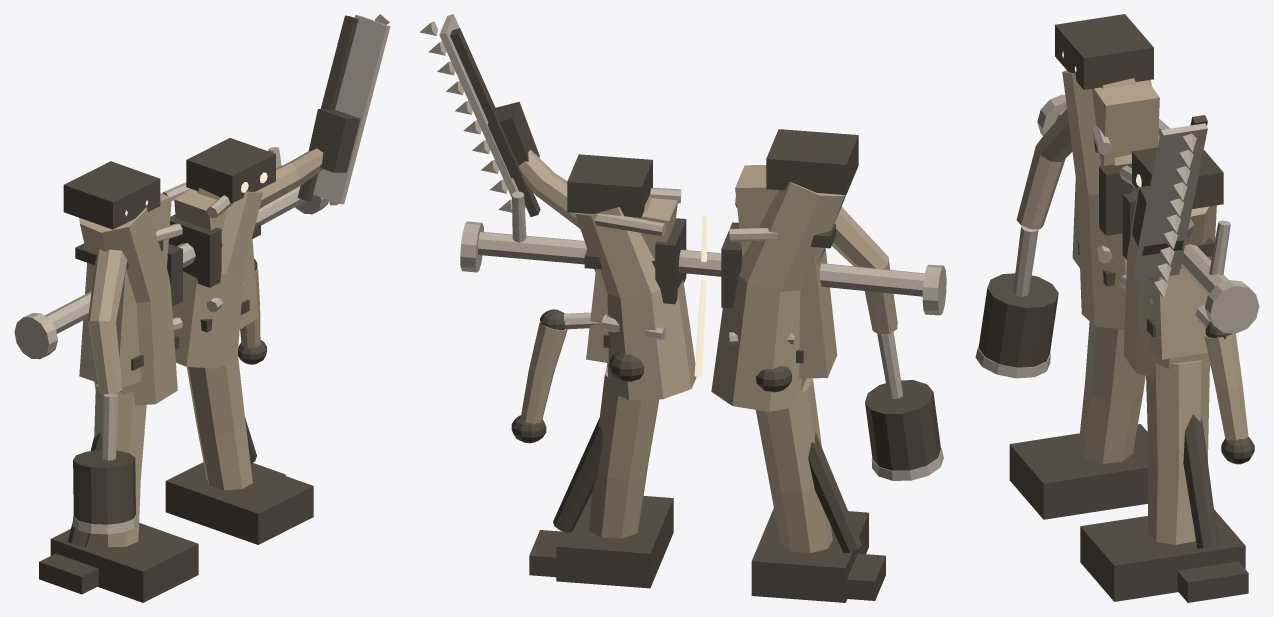
File: jointer.glb
3 renders of one model, left to right at view 1: azimuth 30°, elevation 25°; view 2: azimuth 150°, elevation 25°; view 3: azimuth 270°, elevation 25°, orthographic. The views are drawn at different scales.
Parts seen in each view (by area): view 1: jointer_dark, jointer_body, jointer_bone; view 2: jointer_body, jointer_dark, jointer_bone, jointer_glow; view 3: jointer_body, jointer_dark, jointer_bone.
Part boxes in pixels (x1,y1,x2,y2): jointer_dark: [39, 15, 360, 602]; jointer_body: [79, 148, 323, 546]; jointer_bone: [14, 14, 390, 534]; jointer_body: [519, 149, 897, 553]; jointer_dark: [450, 28, 940, 602]; jointer_bone: [420, 14, 946, 480]; jointer_glow: [694, 215, 706, 377]; jointer_body: [1016, 70, 1248, 544]; jointer_dark: [978, 14, 1254, 602]; jointer_bone: [975, 94, 1259, 378].
Size of the model in its own units: 2.18 by 2.25 by 1.1.
